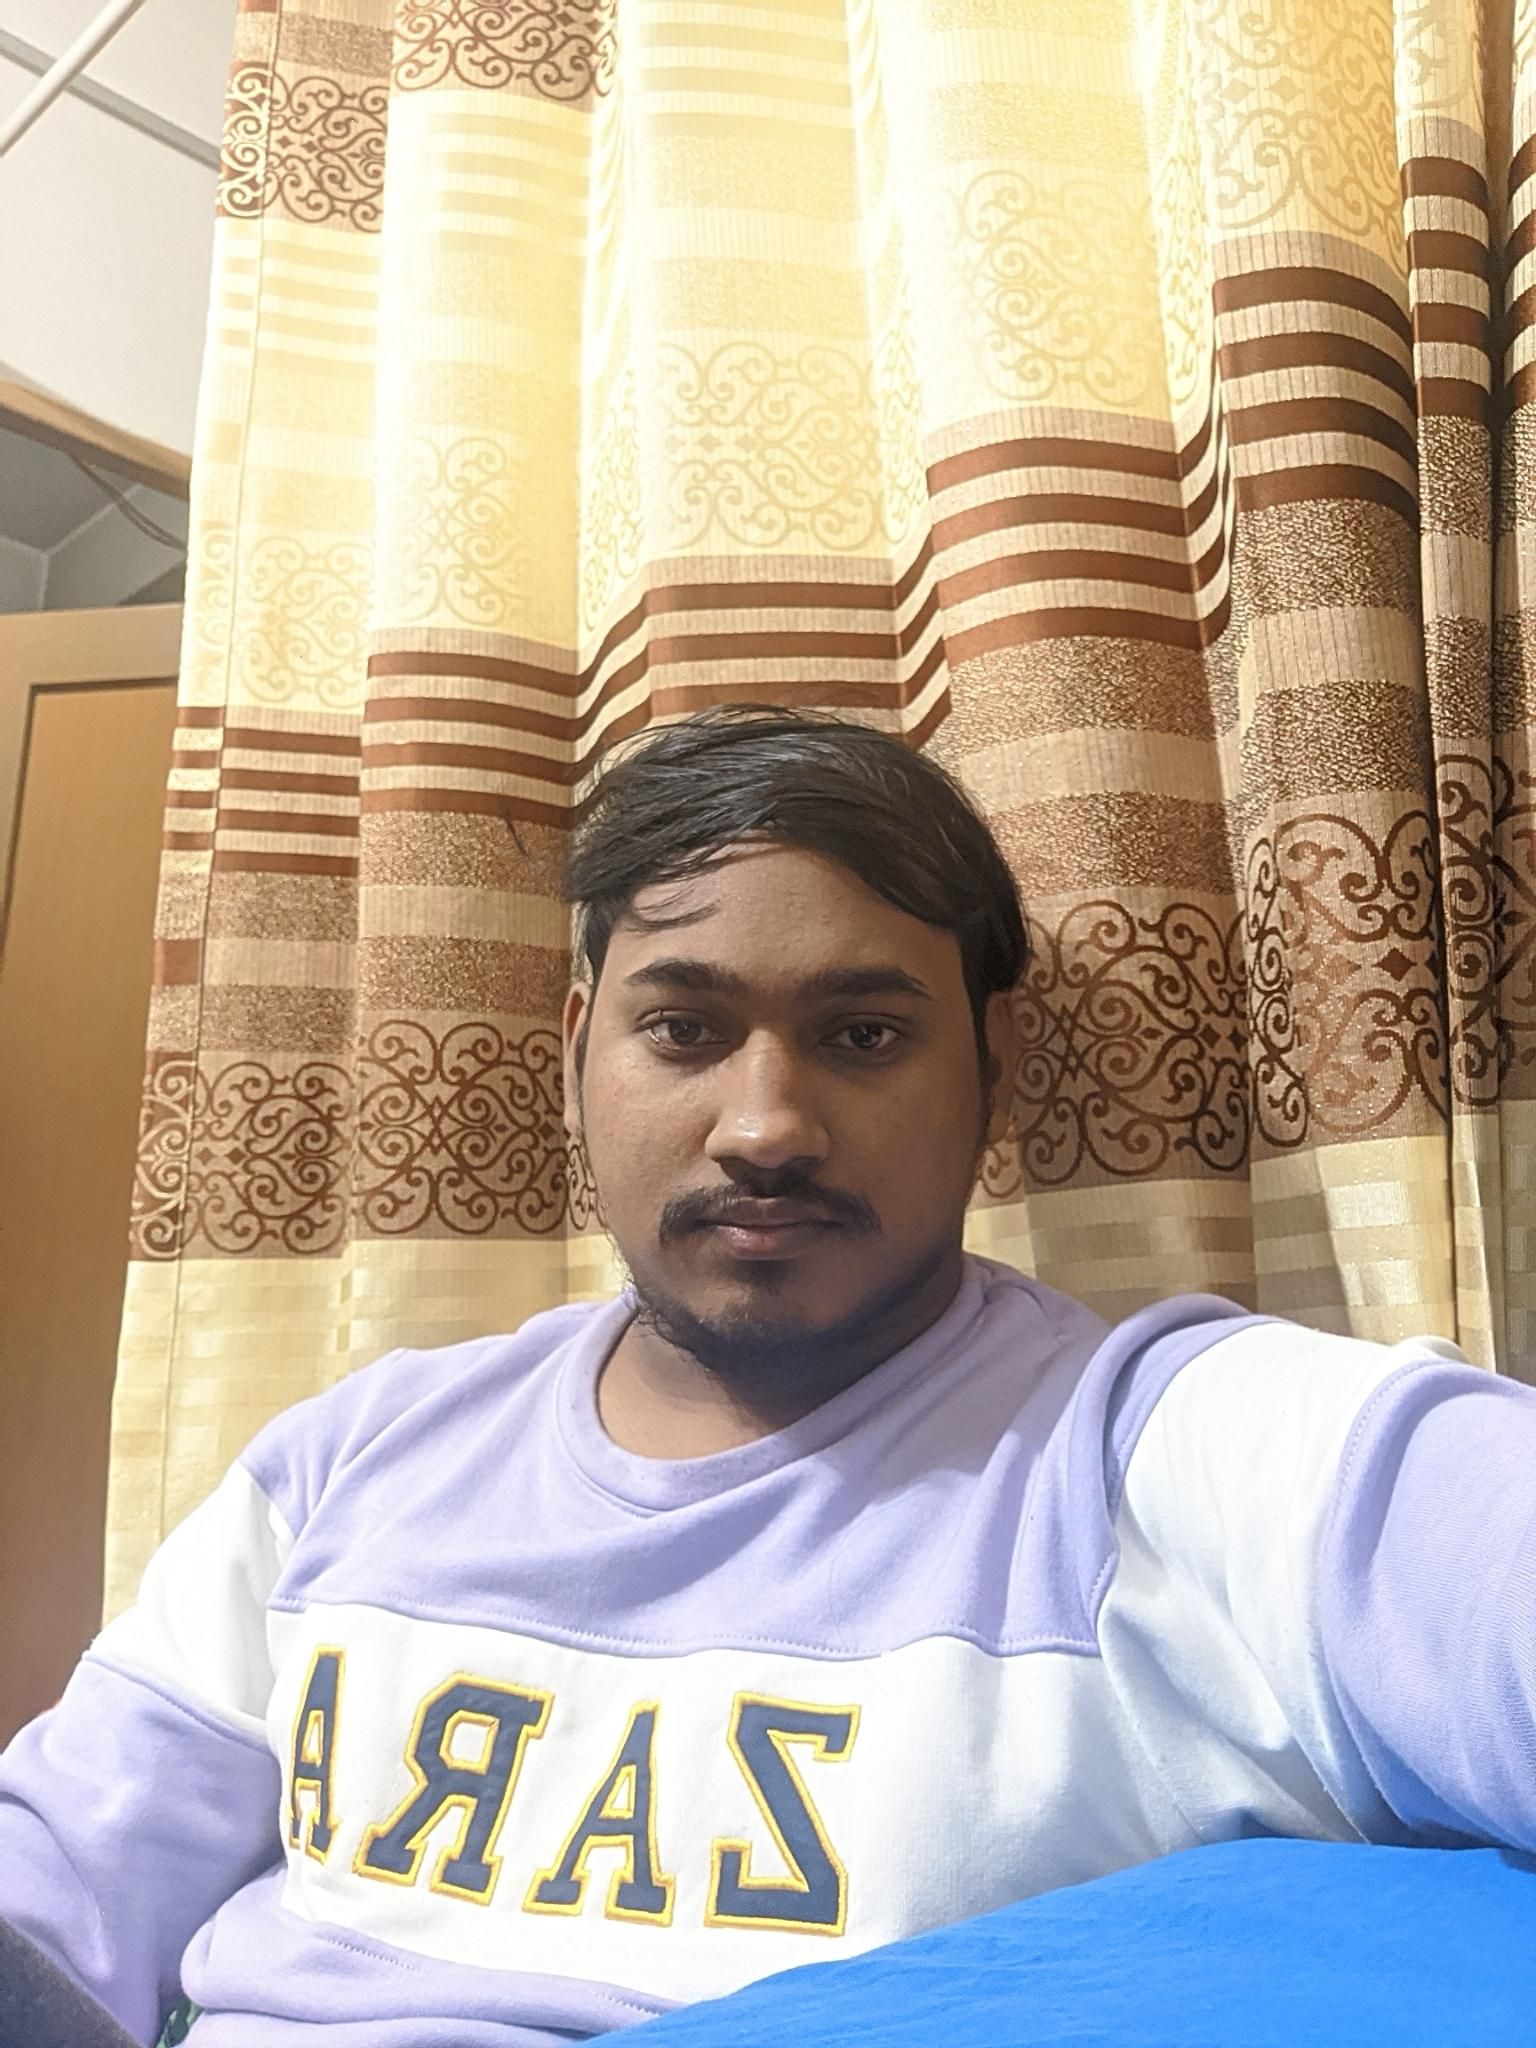Neutral: (602, 895, 971, 1361)
